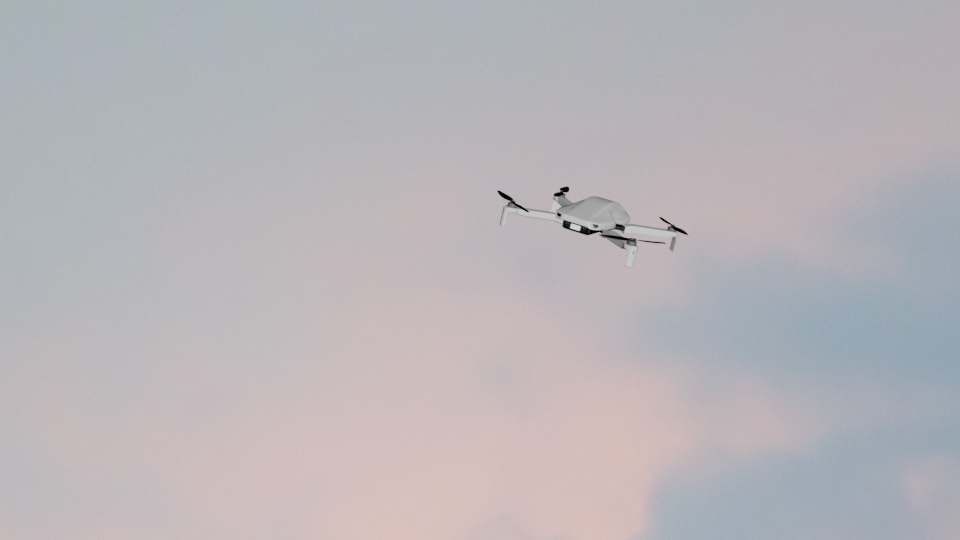drone: (492, 184, 689, 267)
